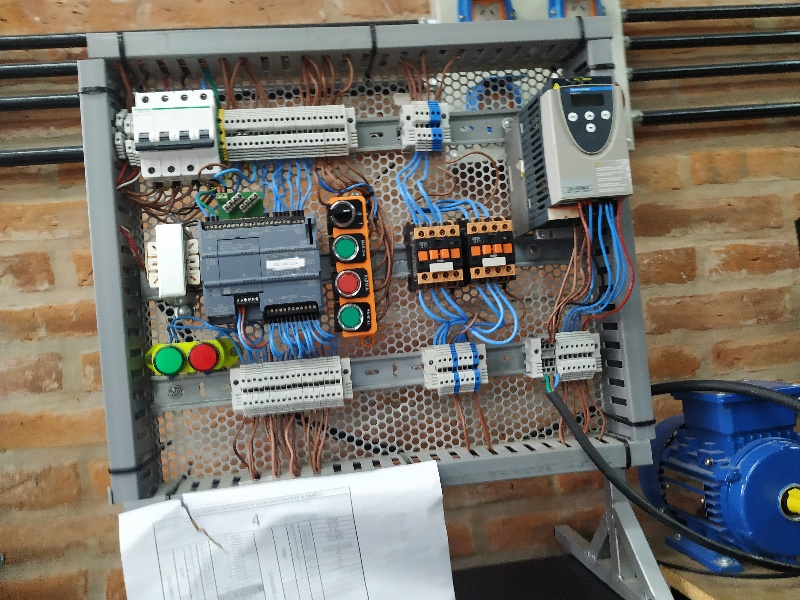Tablero 4: (116, 53, 640, 499)
